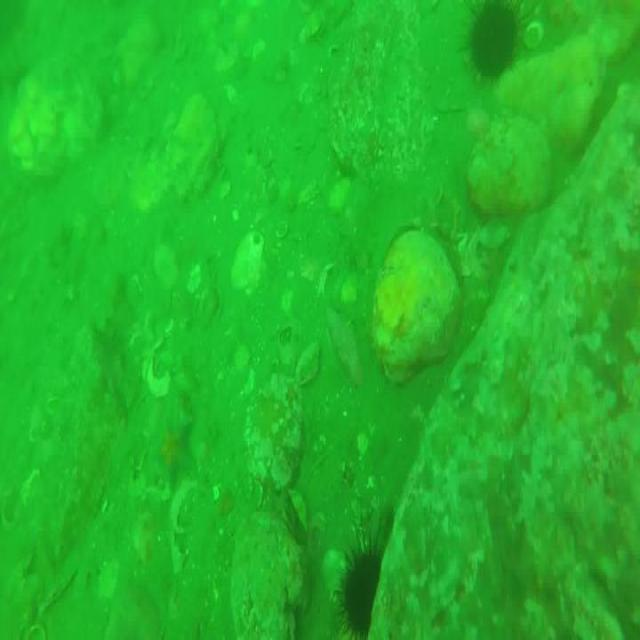echinus: (461, 0, 524, 92), (336, 540, 391, 640)
scallop: (227, 232, 265, 294), (281, 488, 307, 539), (292, 339, 319, 388), (277, 221, 288, 240)
starfish: (149, 414, 192, 485)
